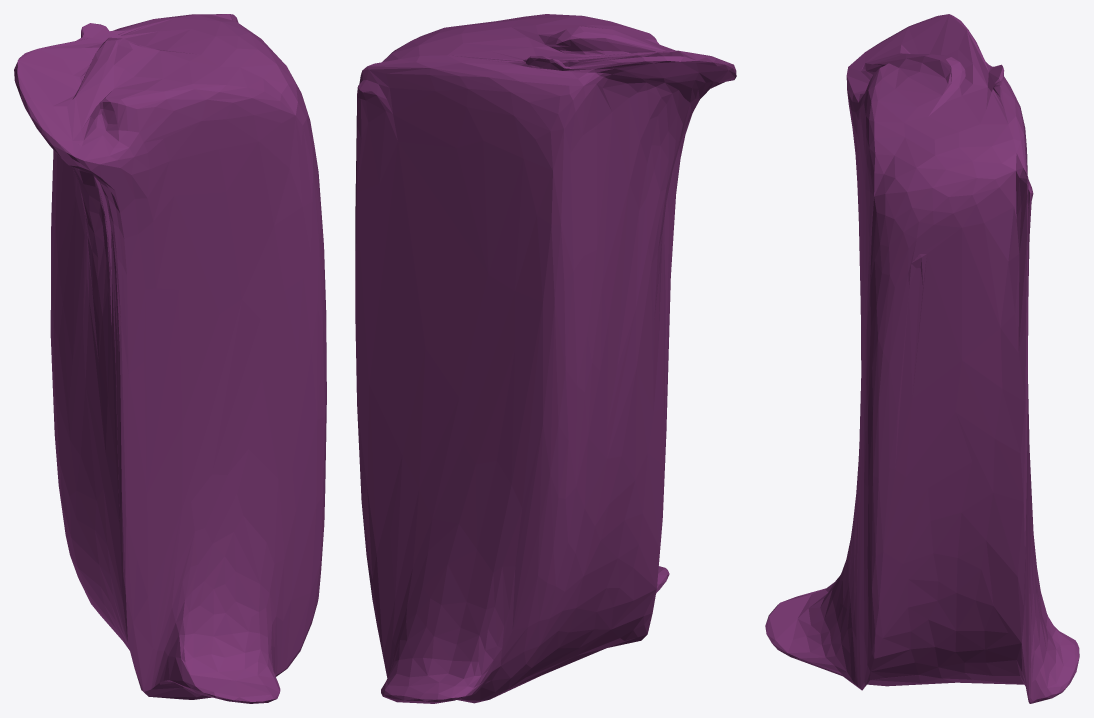
3 views of the same model, side by side, from view 1: azimuth 30°, elevation 25°; view 2: azimuth 150°, elevation 25°; view 3: azimuth 270°, elevation 25° (orthographic). The views are drawn at different scales.
Visible parts, largest first — view 1: 163_Cube.680; view 2: 163_Cube.680; view 3: 163_Cube.680.
Part boxes in pixels (x1,y1,x2,y2): 163_Cube.680: (14,14,326,703); 163_Cube.680: (355,14,736,703); 163_Cube.680: (765,14,1079,703).
Bounding box in the file's own units: 5.67 × 12.03 × 5.8.
